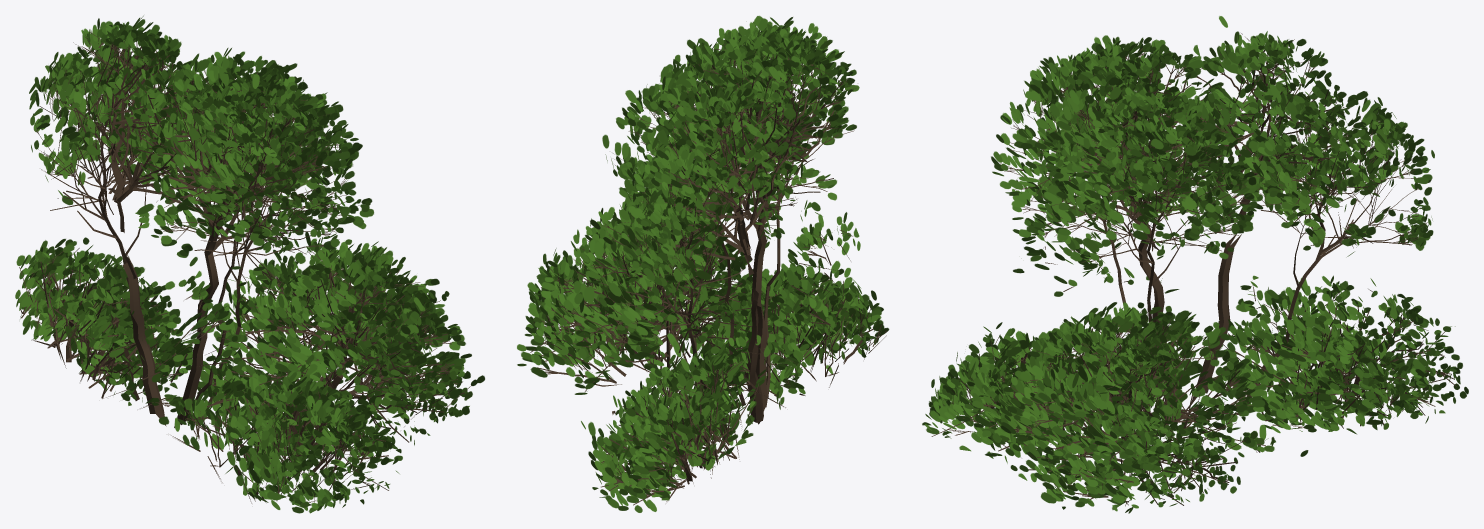
The picture shows the model from 3 angles, left to right: view 1: azimuth 30°, elevation 25°; view 2: azimuth 150°, elevation 25°; view 3: azimuth 270°, elevation 25°; orthographic projection. The views are drawn at different scales.
Parts seen in each view (by area): view 1: oak 01.001_trunk_Mat.001_0.403; view 2: oak 01.001_trunk_Mat.001_0.403; view 3: oak 01.001_trunk_Mat.001_0.403.
Boxes of the visible parts, x1=… form: oak 01.001_trunk_Mat.001_0.403: x1=15, y1=15, x2=484, y2=513; oak 01.001_trunk_Mat.001_0.403: x1=517, y1=15, x2=889, y2=512; oak 01.001_trunk_Mat.001_0.403: x1=922, y1=16, x2=1468, y2=513.
Bounding box in the file's own units: 3.03 × 3.87 × 4.88.
2 materials, 1 textured.
